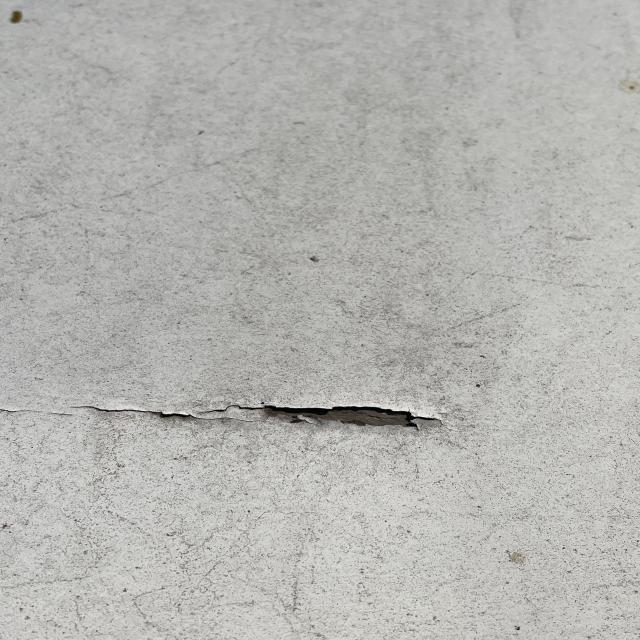crack: (96, 389, 430, 439)
